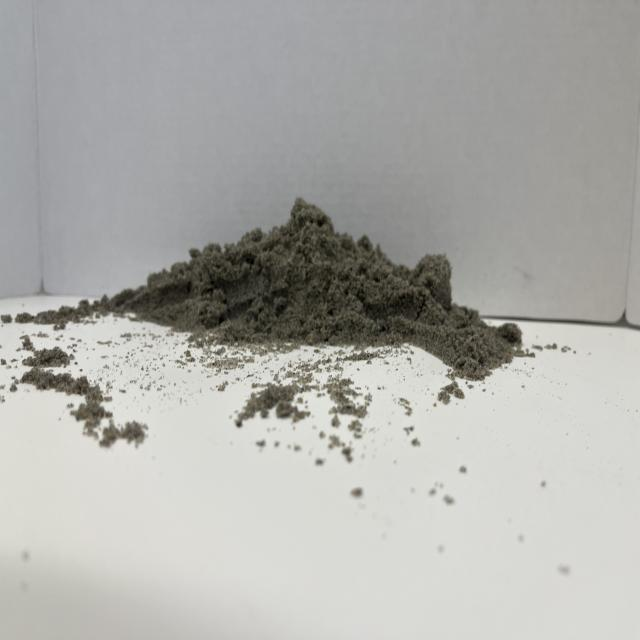sand: (85, 181, 480, 368)
